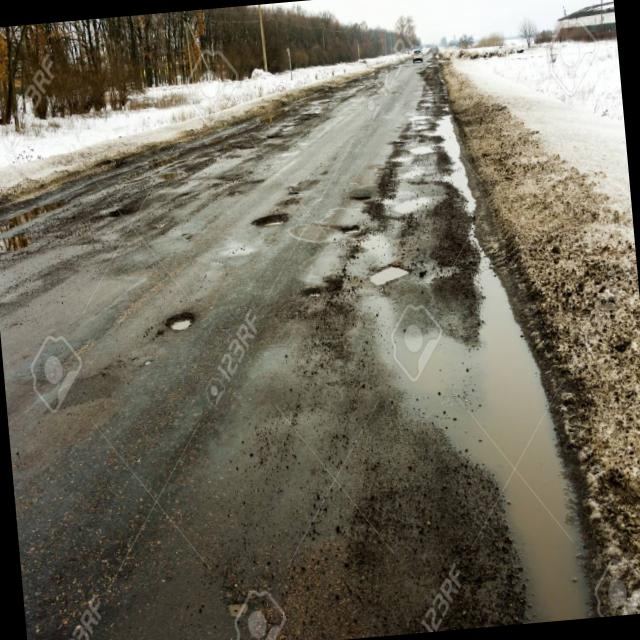Potholes: (166, 292, 236, 376), (366, 253, 414, 304), (248, 195, 297, 242)
